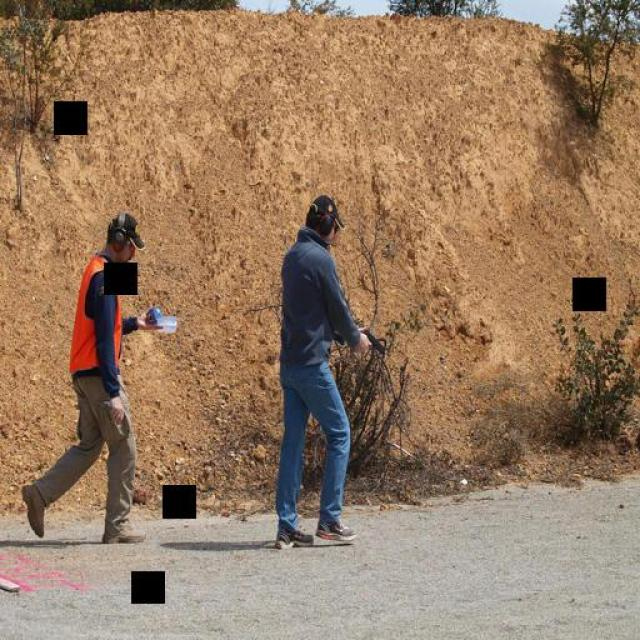gun: (358, 318, 387, 358)
